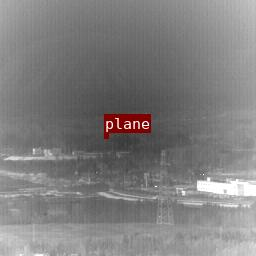plane: (104, 133, 108, 135)
